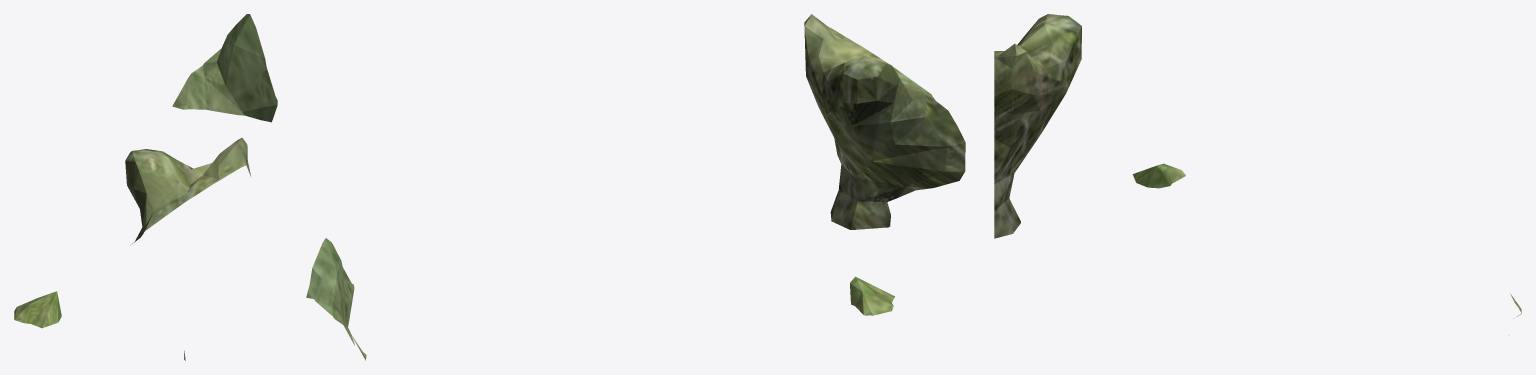
The picture shows the model from 3 angles, left to right: view 1: azimuth 30°, elevation 25°; view 2: azimuth 150°, elevation 25°; view 3: azimuth 270°, elevation 25°; orthographic projection. The views are drawn at different scales.
Size of the model in its own units: 2.55 by 1.23 by 2.95.
1 material, 1 textured.
